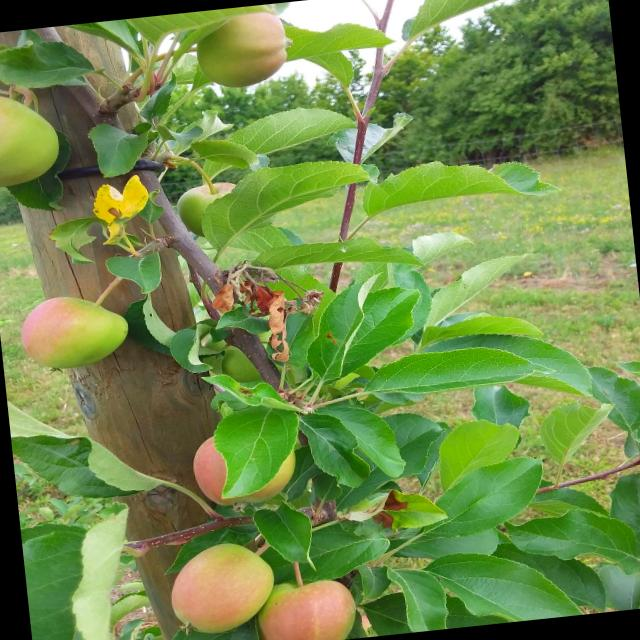-FireBlight-: (210, 238, 322, 368)
